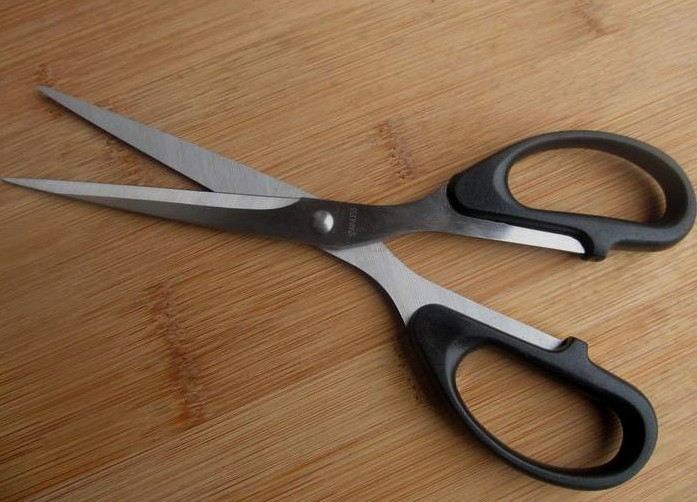scissors: (3, 79, 697, 497)
